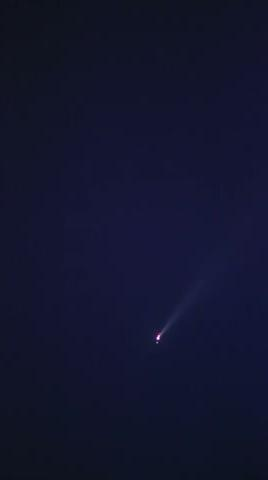Plane: (144, 279, 197, 360), (146, 306, 185, 359)
